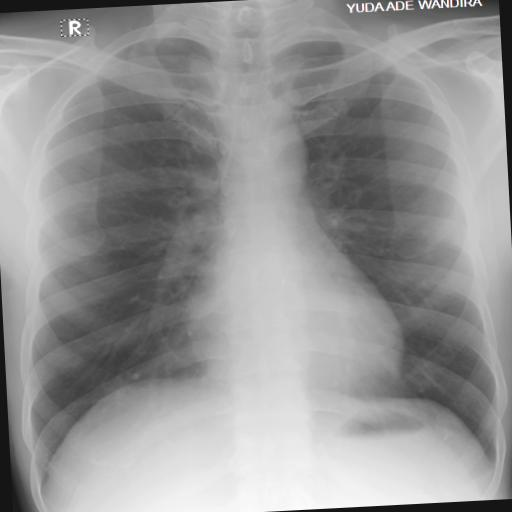normal: (0, 3, 512, 496)
